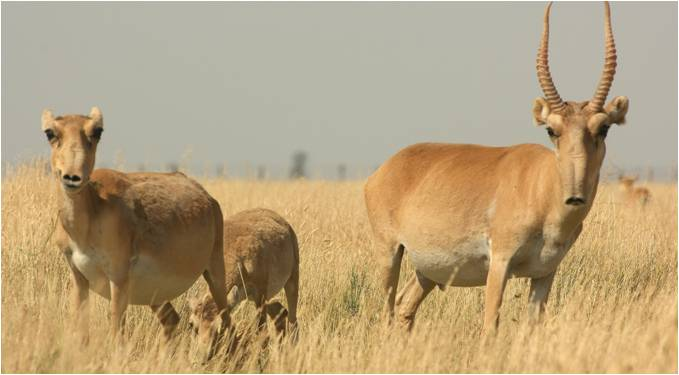saiga: (361, 4, 634, 347), (43, 107, 244, 365)
